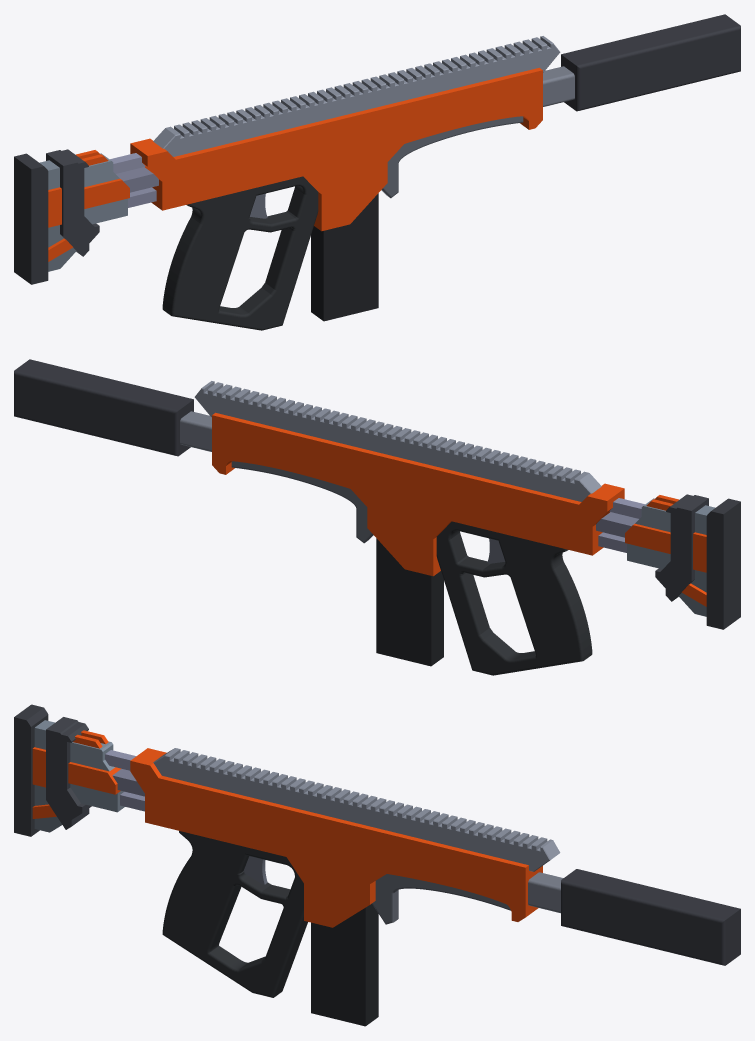
3 renders of one model, top to bottom at view 1: azimuth 30°, elevation 25°; view 2: azimuth 150°, elevation 25°; view 3: azimuth 330°, elevation 25°, orthographic.
Parts seen in each view (by area): view 1: path-0, path-3-main, path-7, path-5, path-2, path-21, path-15, path-1, path-6, path-11, path-12, path-8 (+2 smaller); view 2: path-0, path-3-main, path-7, path-5, path-2, path-21, path-15, path-1, path-6, path-11, path-12, path-8 (+2 smaller); view 3: path-0, path-3-main, path-7, path-5, path-2, path-15, path-21, path-1, path-6, path-11, path-13, path-12 (+1 smaller).
Part boxes in pixels (x1=…): path-0: x1=130, y1=67, x2=542, y2=231; path-3-main: x1=162, y1=176, x2=318, y2=330; path-7: x1=153, y1=36, x2=560, y2=156; path-5: x1=561, y1=14, x2=740, y2=111; path-2: x1=311, y1=193, x2=378, y2=321; path-21: x1=14, y1=153, x2=48, y2=284; path-15: x1=46, y1=149, x2=99, y2=256; path-1: x1=381, y1=116, x2=523, y2=198; path-6: x1=543, y1=66, x2=574, y2=106; path-11: x1=84, y1=178, x2=129, y2=208; path-12: x1=84, y1=198, x2=127, y2=224; path-8: x1=116, y1=167, x2=158, y2=192; path-0: x1=212, y1=412, x2=624, y2=576; path-3-main: x1=436, y1=521, x2=592, y2=675; path-7: x1=194, y1=381, x2=601, y2=501; path-5: x1=14, y1=359, x2=193, y2=456; path-2: x1=376, y1=538, x2=443, y2=666; path-21: x1=706, y1=498, x2=740, y2=629; path-15: x1=655, y1=494, x2=708, y2=601; path-1: x1=231, y1=461, x2=373, y2=543; path-6: x1=180, y1=411, x2=211, y2=451; path-11: x1=625, y1=523, x2=670, y2=553; path-12: x1=627, y1=543, x2=670, y2=569; path-8: x1=596, y1=512, x2=638, y2=537; path-0: x1=130, y1=748, x2=542, y2=927; path-3-main: x1=162, y1=831, x2=307, y2=997; path-7: x1=153, y1=748, x2=560, y2=871; path-5: x1=561, y1=869, x2=740, y2=965; path-2: x1=311, y1=903, x2=378, y2=1026; path-15: x1=46, y1=717, x2=91, y2=829; path-21: x1=14, y1=704, x2=48, y2=836; path-1: x1=372, y1=874, x2=510, y2=924; path-6: x1=528, y1=872, x2=563, y2=913; path-11: x1=68, y1=762, x2=121, y2=794; path-13: x1=70, y1=741, x2=114, y2=771; path-12: x1=70, y1=784, x2=124, y2=812.
Bounding box in the file's own units: 707 × 215 × 31.04.
